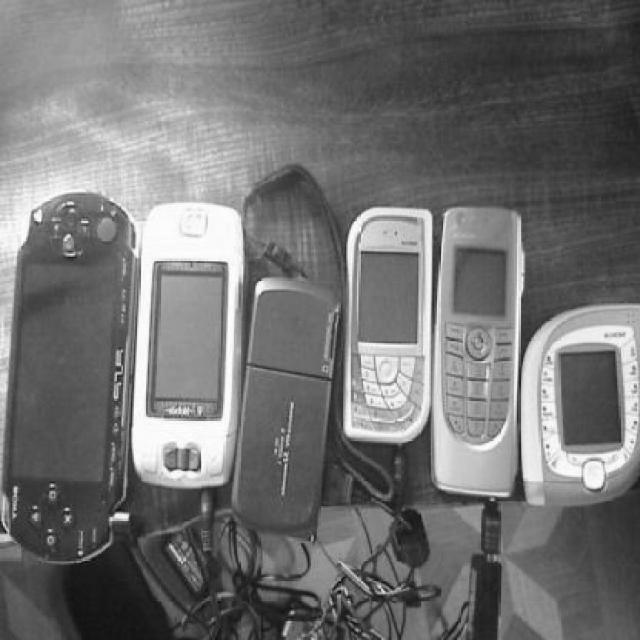fake: (8, 176, 138, 584), (130, 196, 240, 489), (231, 266, 343, 543), (428, 202, 527, 498), (342, 206, 436, 448)
